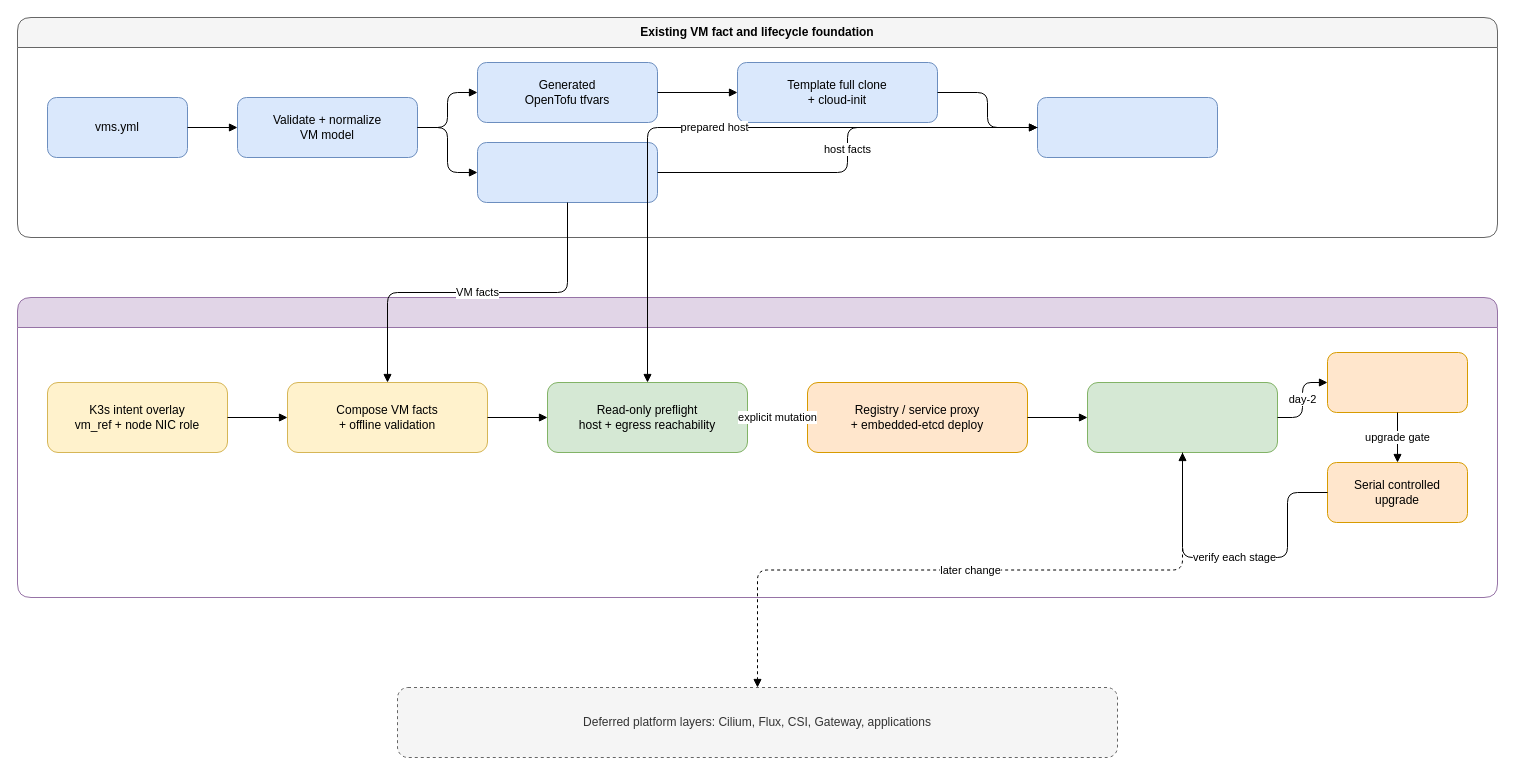
Image size: 1515x775. Some labels were removed from this diagram. The shapes that lost their labels are listed below. From the top down, each one's box as (x1, y1, x2, y2) in pixels, then its label:
(1036, 96, 1218, 158): vm_baseline + optional egress policy
(476, 142, 658, 202): Generated Ansible inventory + VM architecture
(1326, 352, 1468, 412): Protected etcd snapshot
(1086, 382, 1278, 452): Read-only bootstrap verification
(16, 296, 1498, 598): New compositional K3s automation capability
